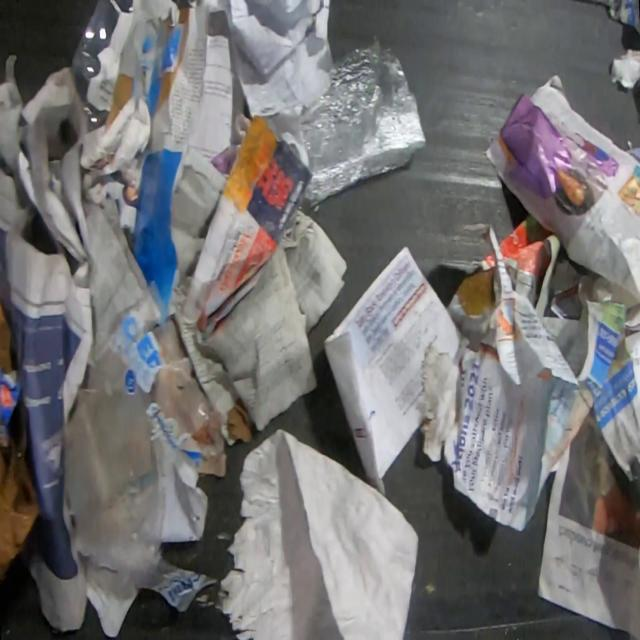cardboard: (0, 296, 40, 586)
rigid_plastic: (72, 0, 120, 135)
soft_plastic: (62, 279, 225, 640), (297, 44, 427, 203)
